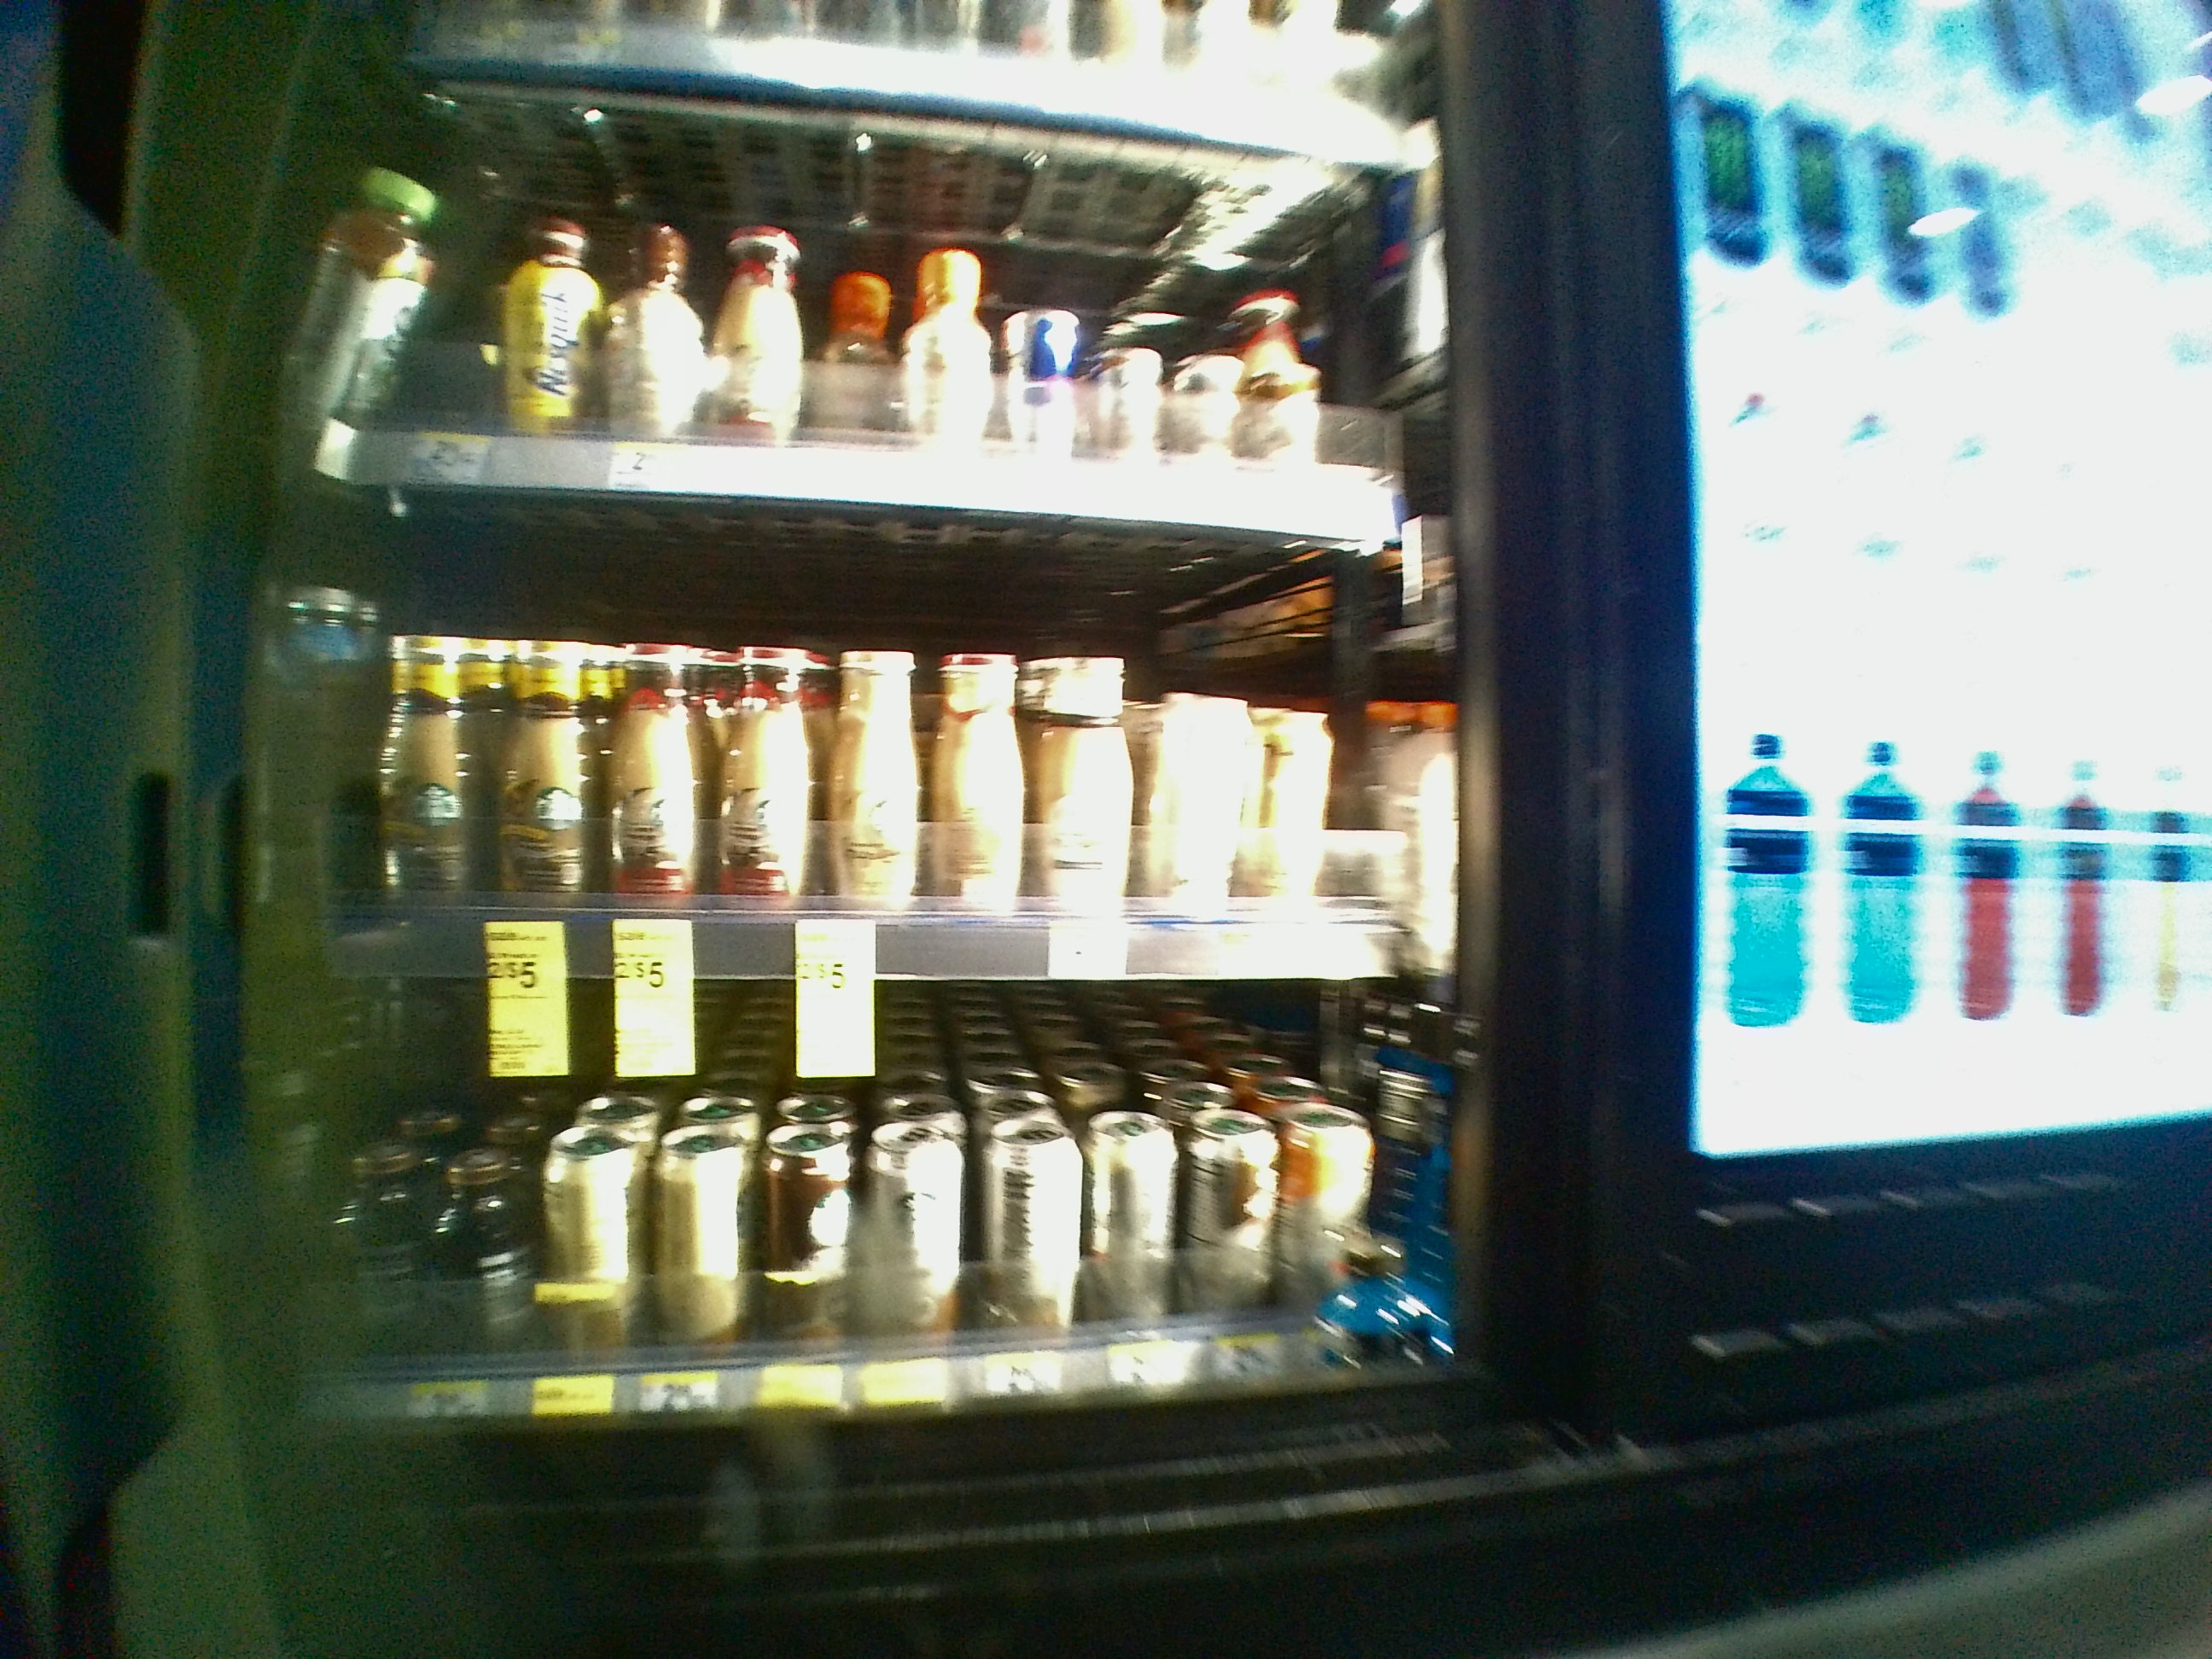shelf: (268, 488, 1465, 974), (244, 985, 1467, 1434)
